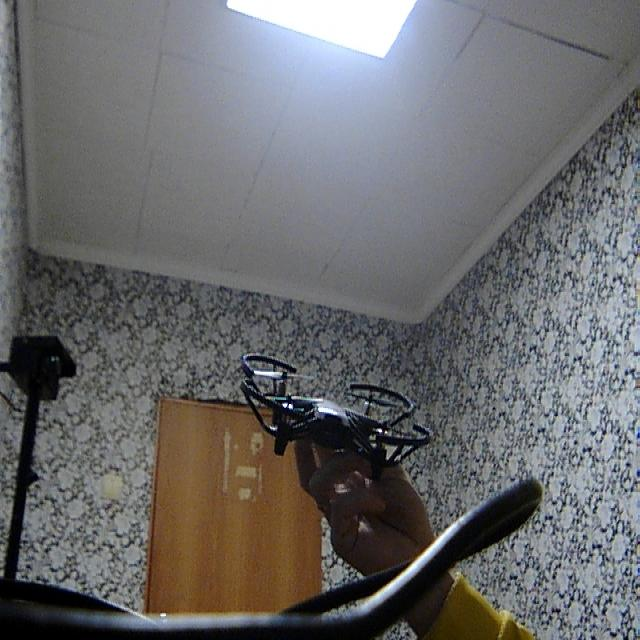drone: (223, 328, 435, 488)
